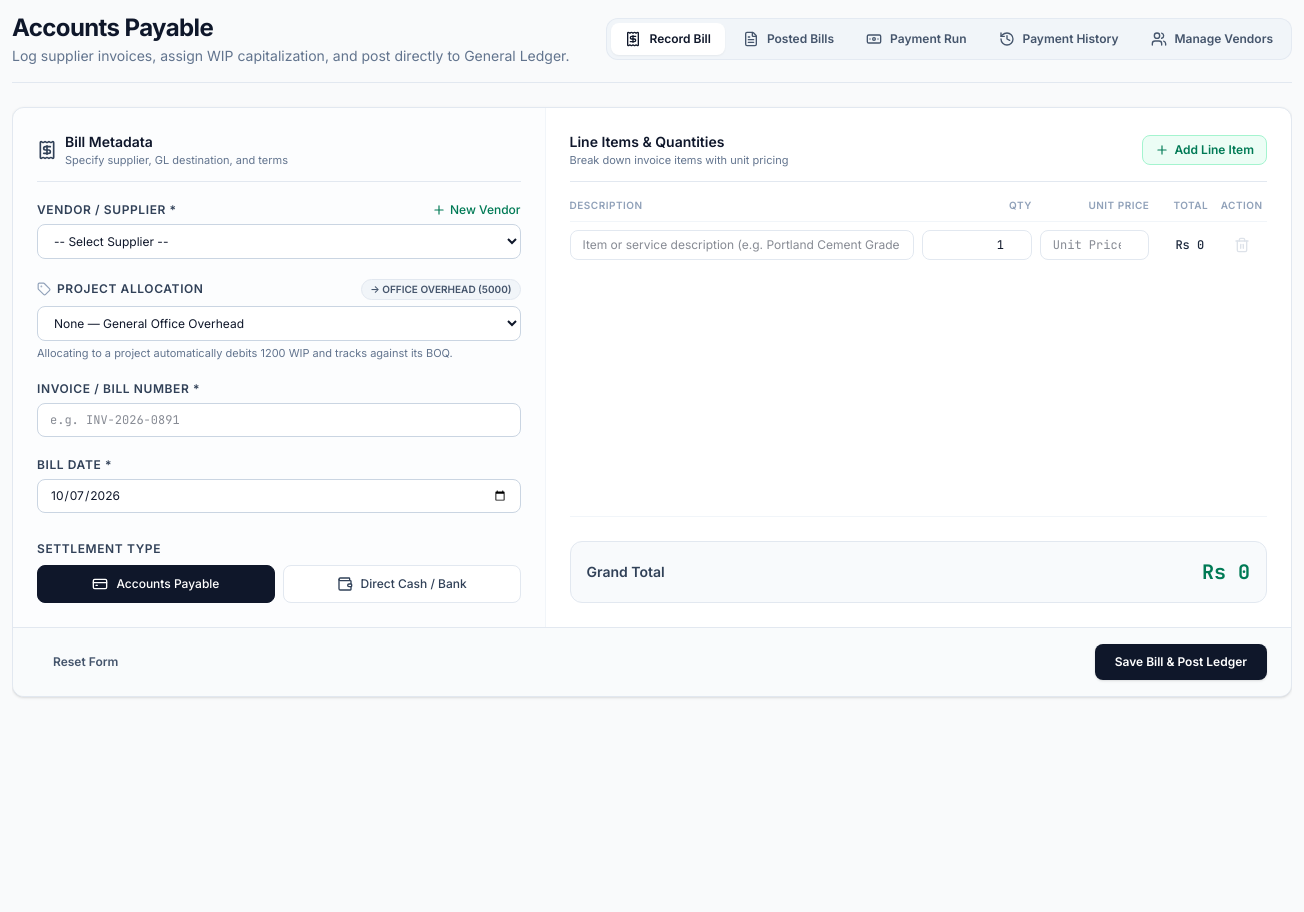
Test: Accounts Payable Page (Screens 5 & 7) › Payment Run Panel (Screen 7) › reveals Cheque Payment mode when HBL Operations Account (1020-01) is selected
Click the button "Payment Run".
click(916, 39)  # box [852,23,980,55]
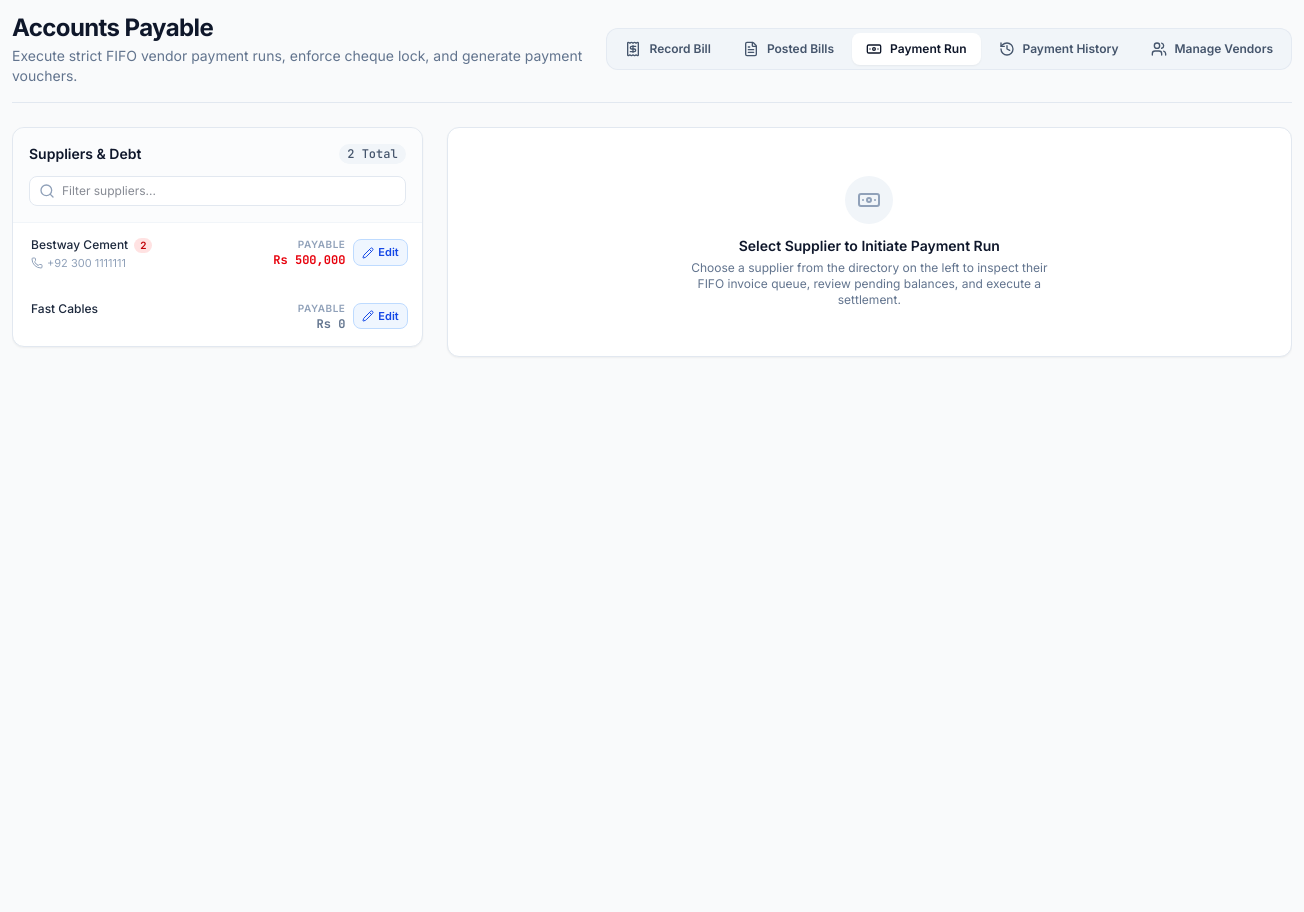
Click the text "Bestway Cement".
click(80, 245)  # box [31,237,128,253]
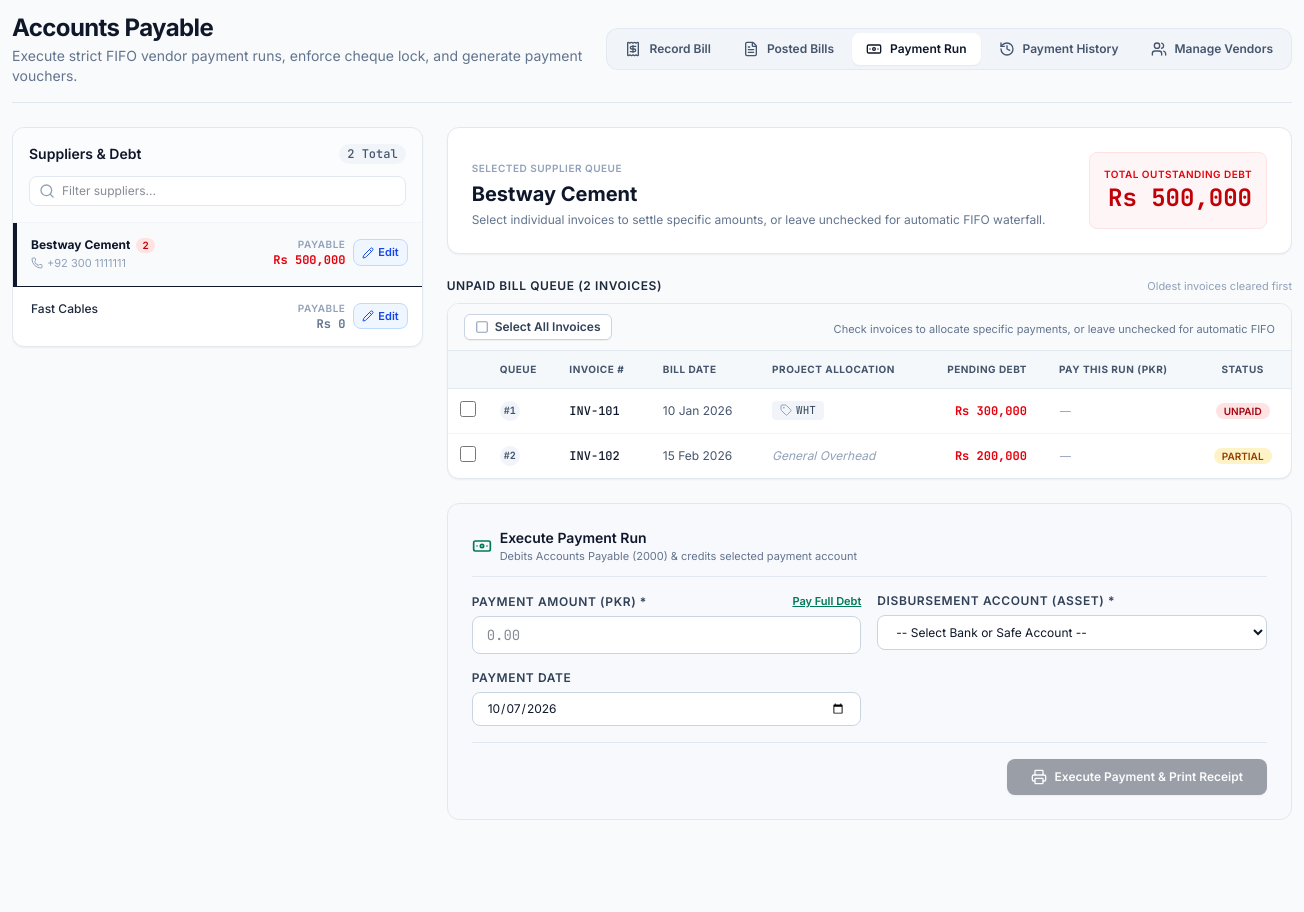
Type "100000" into the number field with placeholder "0.00".
click(667, 635); type("100000")  # box [472,616,861,654]
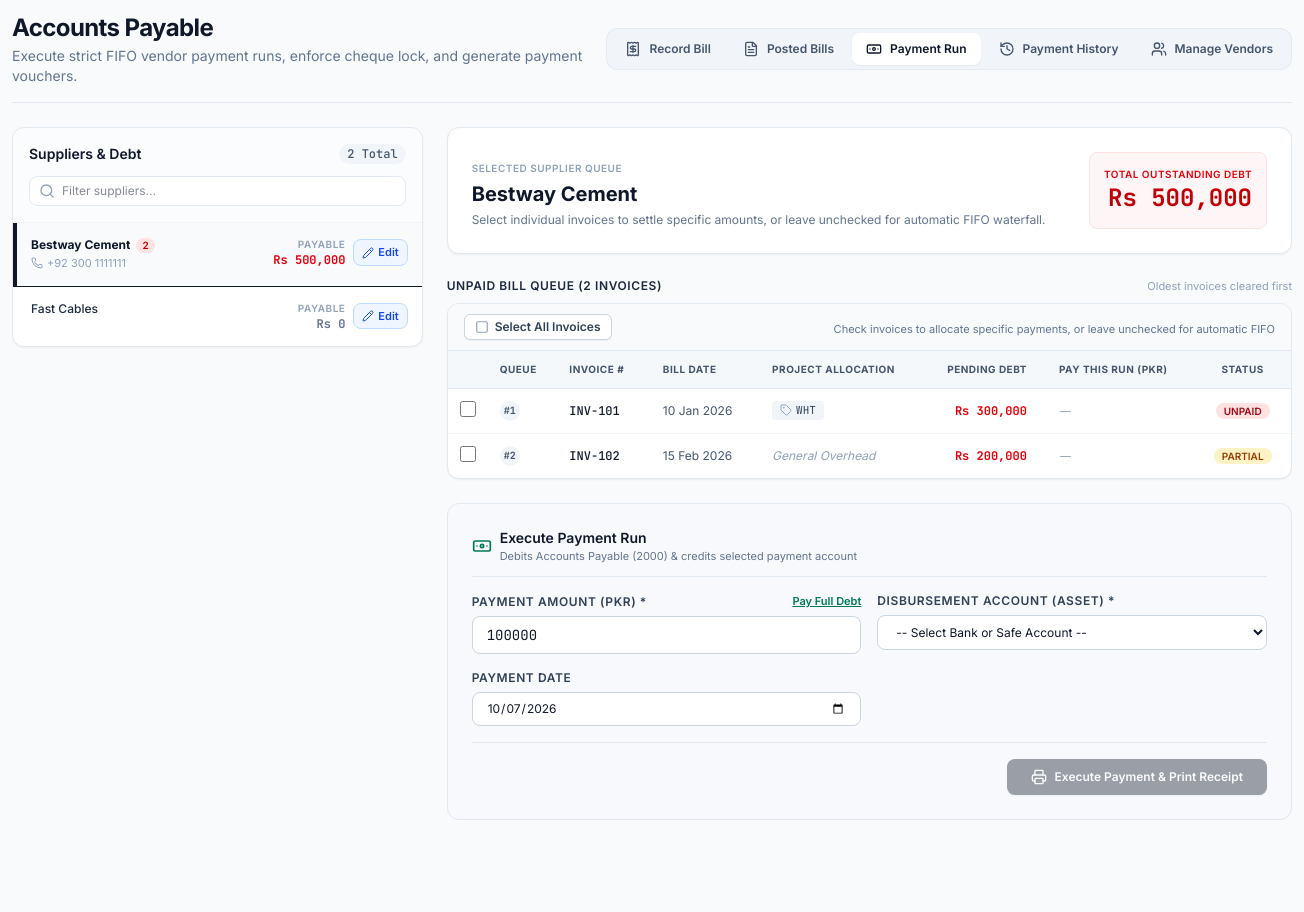
Select "[1020-01] HBL Operations Account" in the dropdown named "Disbursement Account" at [1072, 633], box [877,615,1267,650]
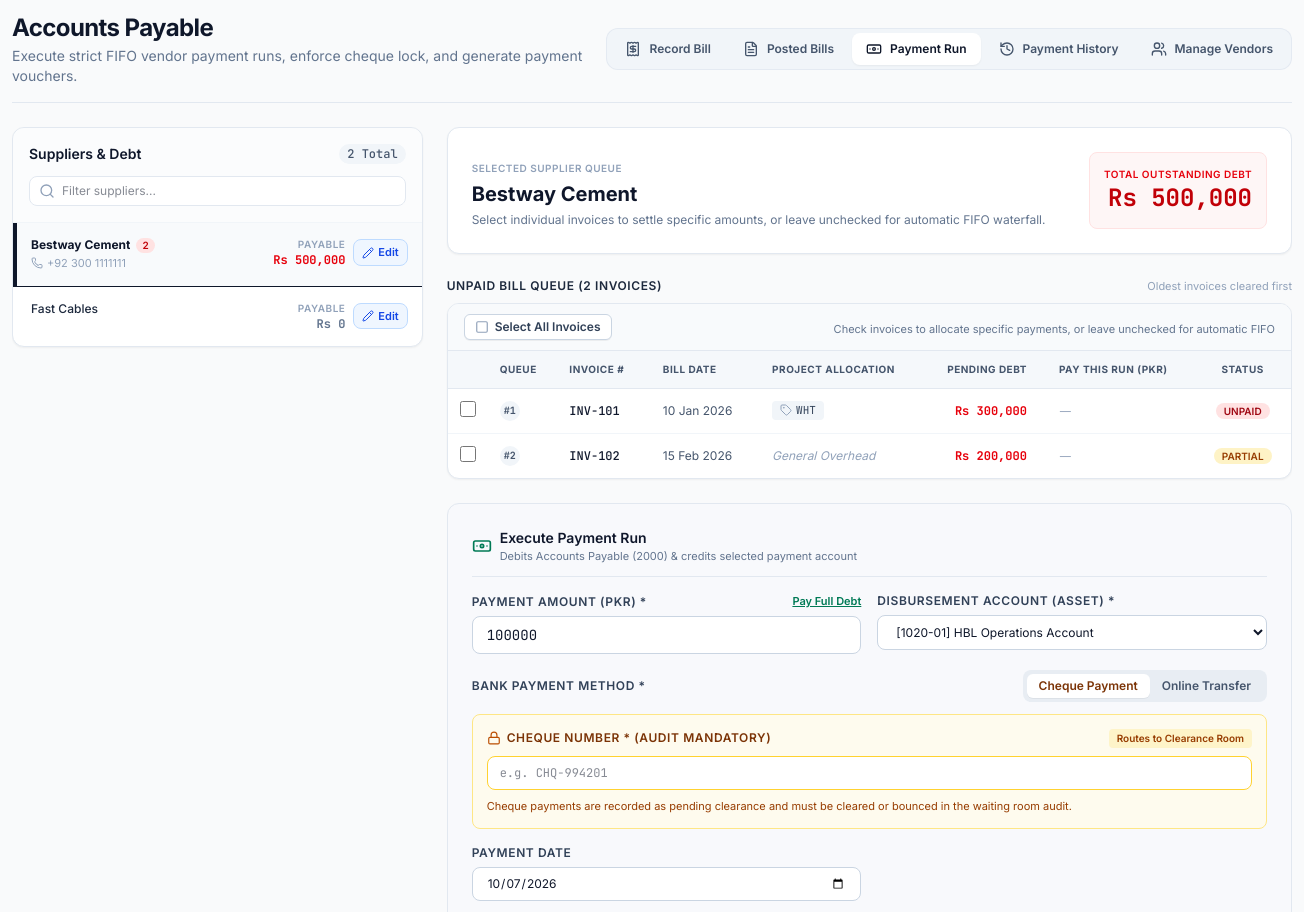
Check: the element with test id "bank-payment-mode-container" is shown, box [472,670,1267,829]
Check: the element with test id "cheque-ref-container" is shown, box [472,714,1267,829]
Check: the button "Cheque Payment" is shown, box [1027,674,1150,698]
